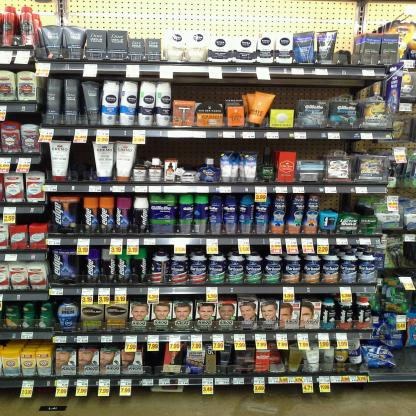Void: (305, 80, 370, 98), (176, 80, 238, 98), (74, 142, 93, 181), (178, 142, 199, 170), (148, 140, 171, 158), (302, 144, 320, 162), (278, 83, 290, 107)
